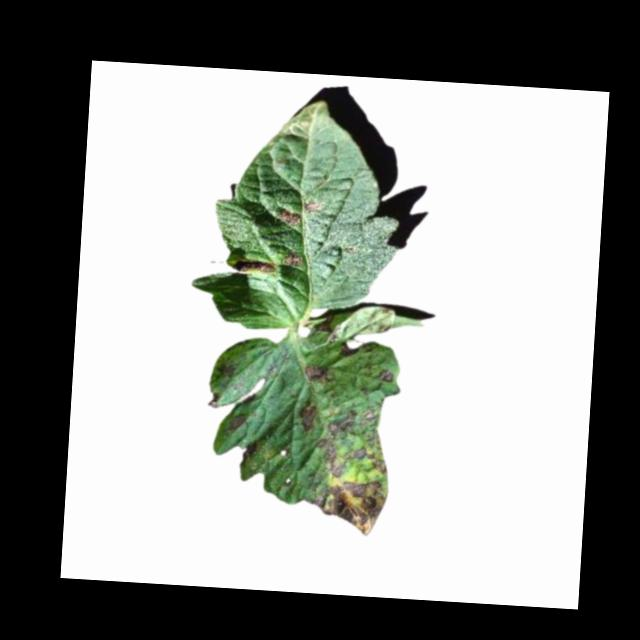Early_blight: (310, 476, 387, 536), (310, 435, 346, 478), (348, 446, 388, 475), (325, 405, 356, 436), (293, 395, 316, 430), (314, 314, 340, 343), (272, 207, 302, 230), (233, 258, 275, 274), (304, 362, 330, 386), (224, 410, 247, 434), (212, 362, 235, 382), (280, 248, 299, 269), (372, 367, 394, 383), (301, 198, 322, 214)
